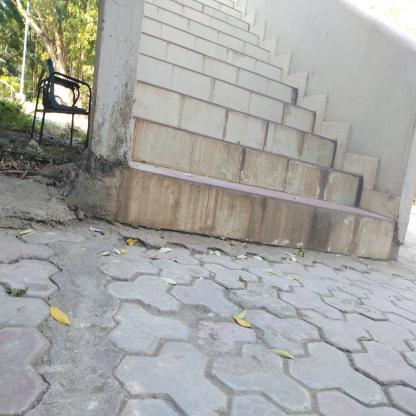stairs: (145, 36, 260, 254)
